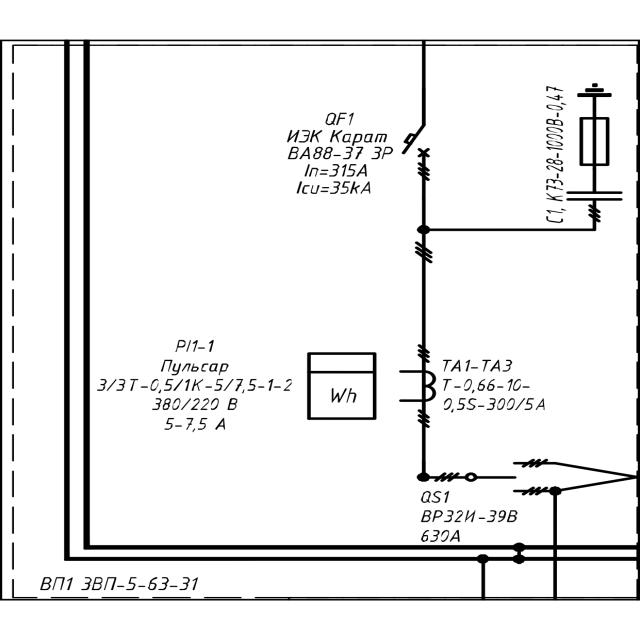-: (95, 358, 292, 436), (284, 127, 396, 197), (437, 375, 552, 414), (418, 507, 522, 543), (37, 573, 203, 595)
QF: (401, 121, 434, 159)
TT: (395, 366, 437, 405)
WH: (304, 350, 380, 423)
switch: (465, 456, 549, 496)
